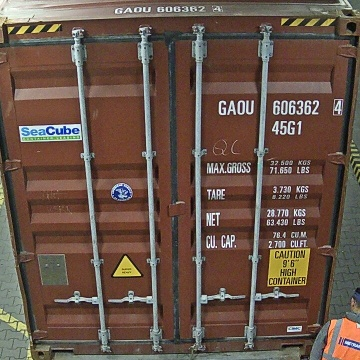serial_id: (218, 99, 342, 115)
